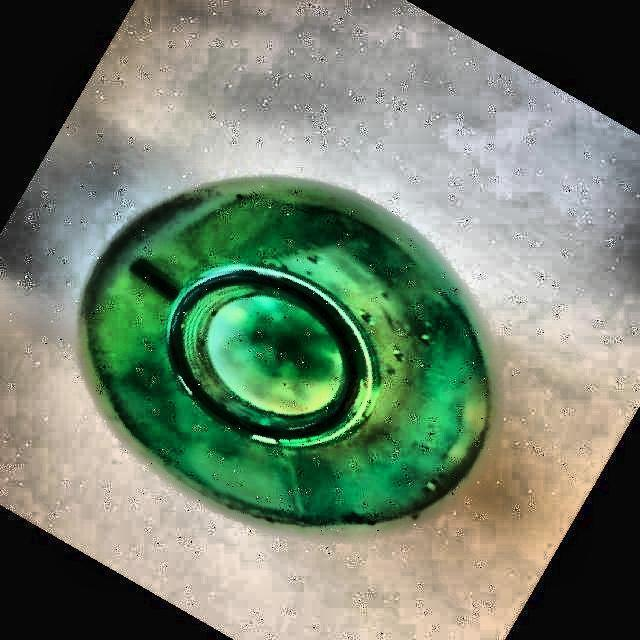plastic: (81, 179, 491, 524)
